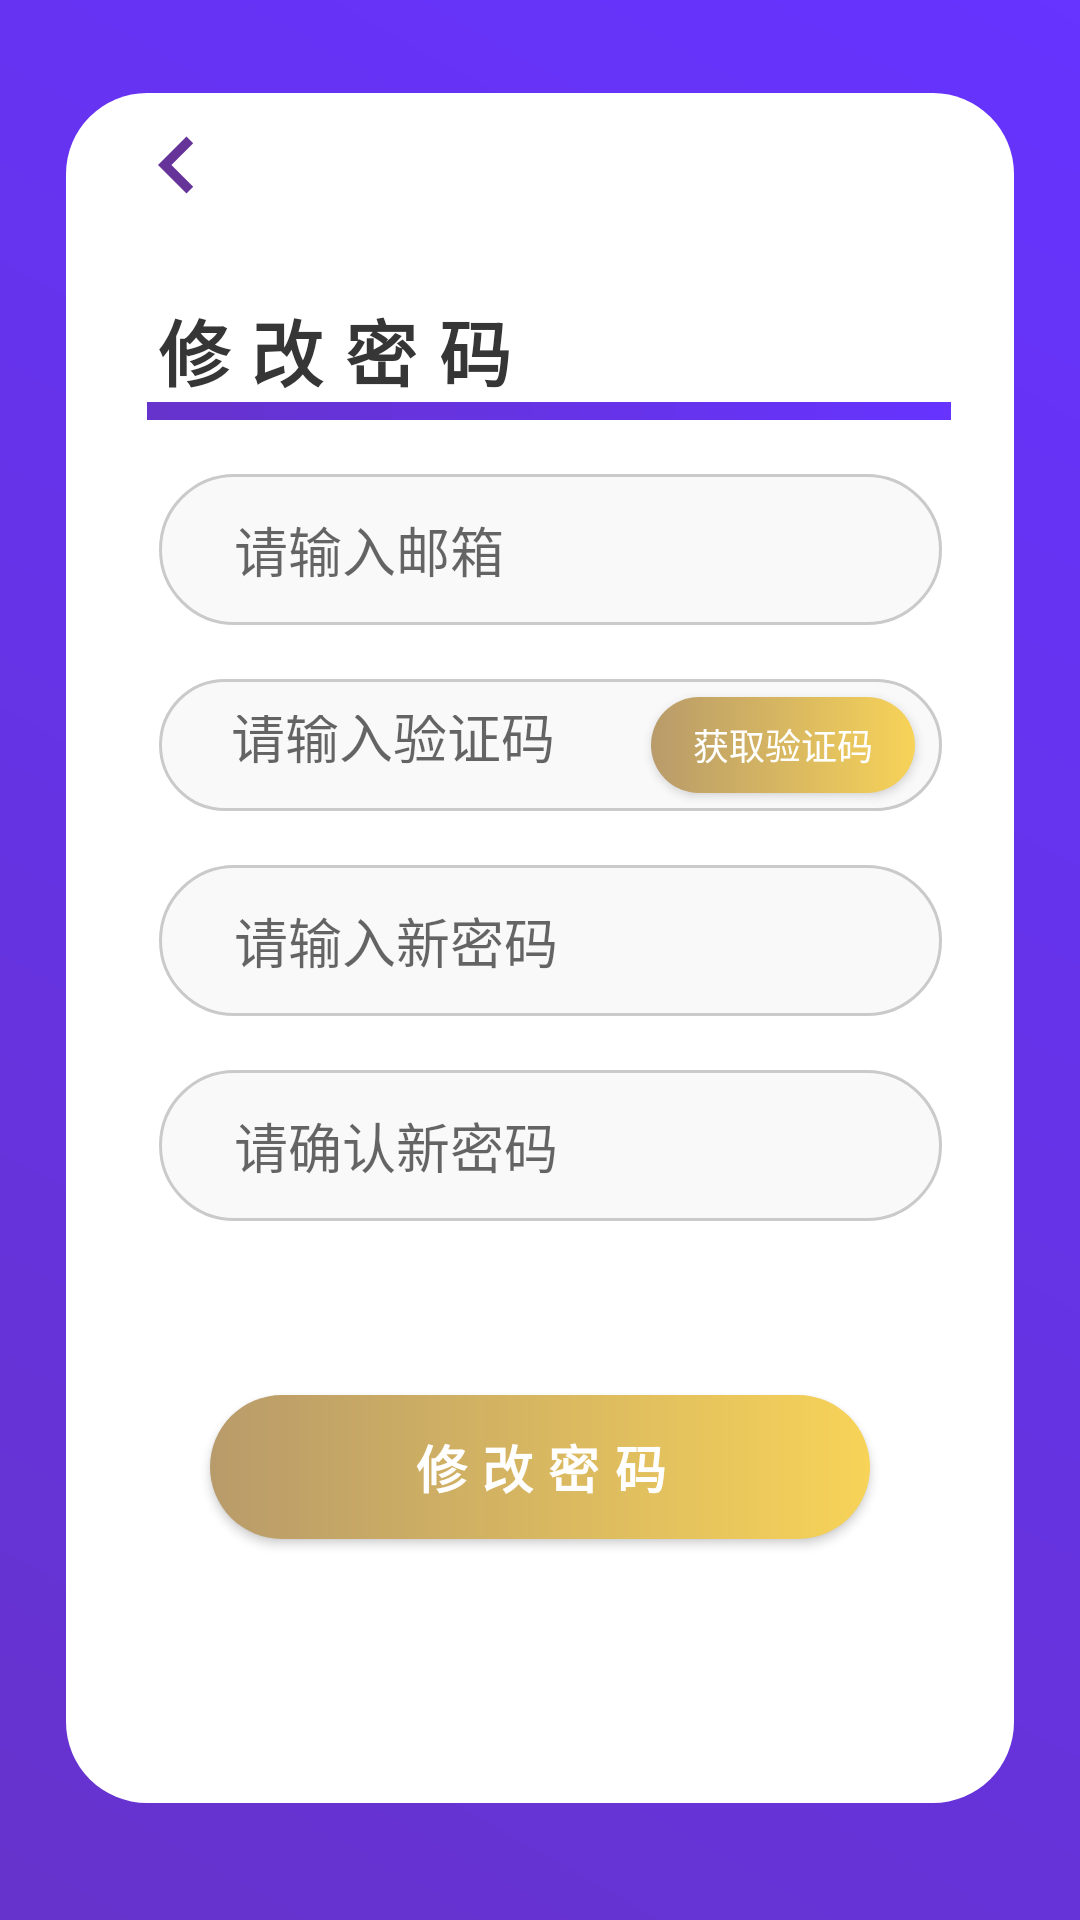

Where icons sit on this 1080w x 1920h app screen, as (x1, y1, x2, y2):
chevron left: (158, 136, 193, 194)
